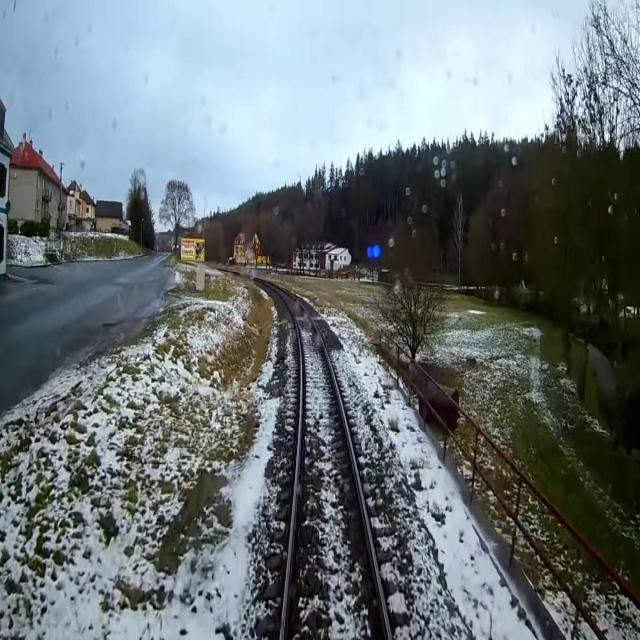rail-track: (273, 286, 388, 639)
